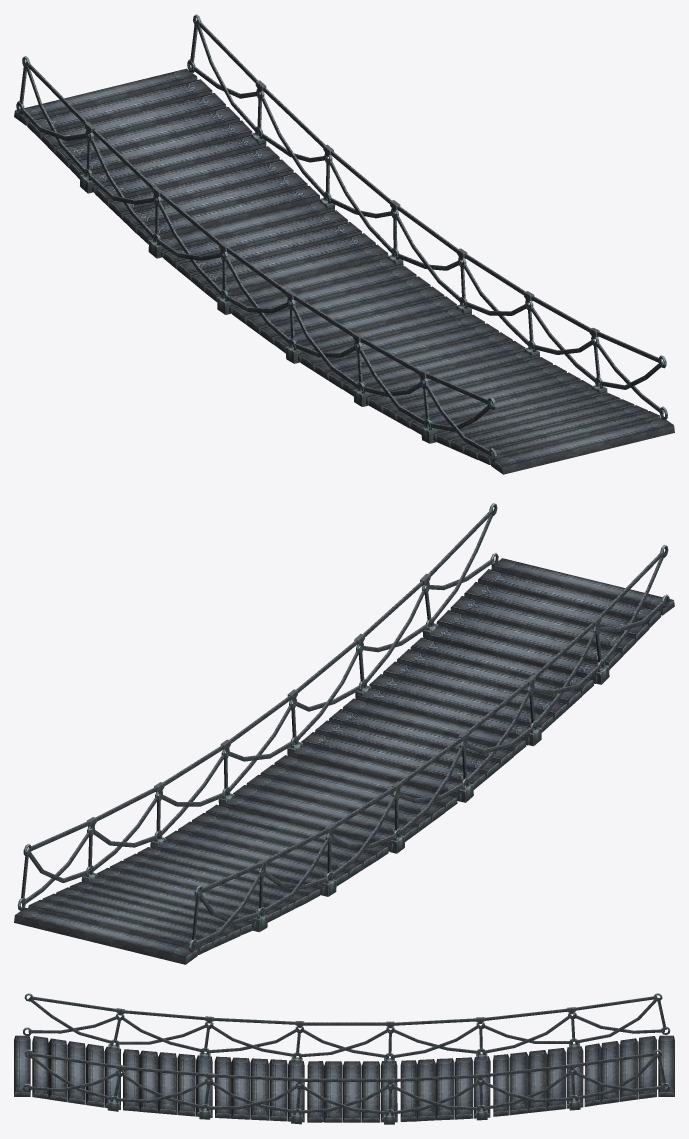
File: steel_bridge_body_s.glb
The picture shows the model from 3 angles, top to bottom: view 1: azimuth 30°, elevation 25°; view 2: azimuth 150°, elevation 25°; view 3: azimuth 270°, elevation 25°; orthographic projection. The views are drawn at different scales.
Parts seen in each view (by area): view 1: steel_bridge_s; view 2: steel_bridge_s; view 3: steel_bridge_s.
Part boxes in pixels (box(x1,y1,x2,y2)): steel_bridge_s: box(14, 14, 674, 474); steel_bridge_s: box(14, 503, 674, 964); steel_bridge_s: box(14, 993, 674, 1124).
Size of the model in its own units: 11.42 by 6.7 by 54.27.
Materials: 1 (1 with a texture image).
